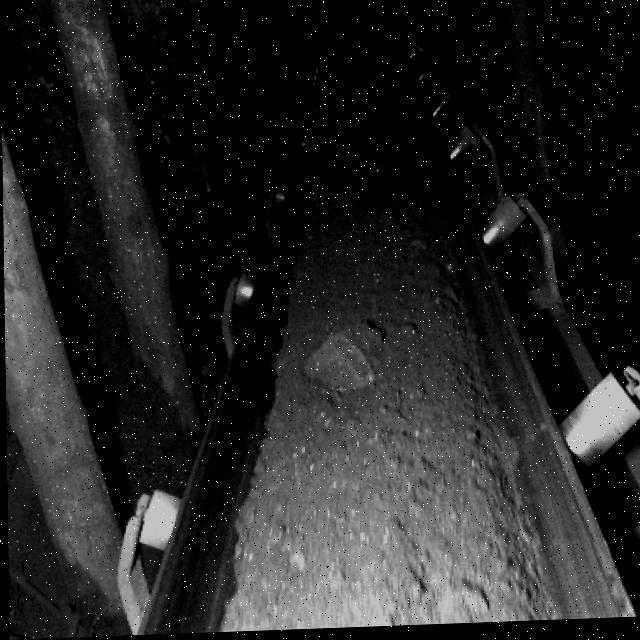large_sized_coal: (307, 319, 384, 397)
